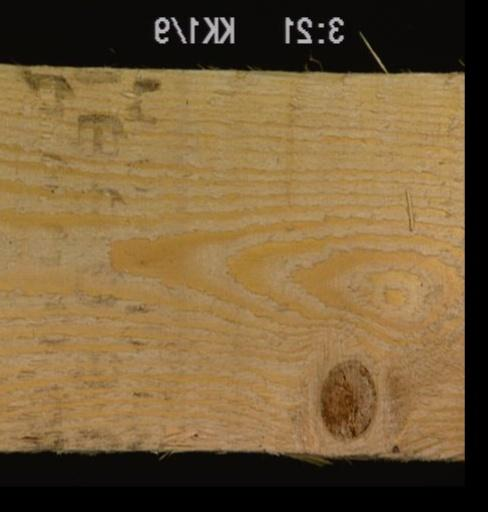sound_knot: (317, 356, 378, 441)
